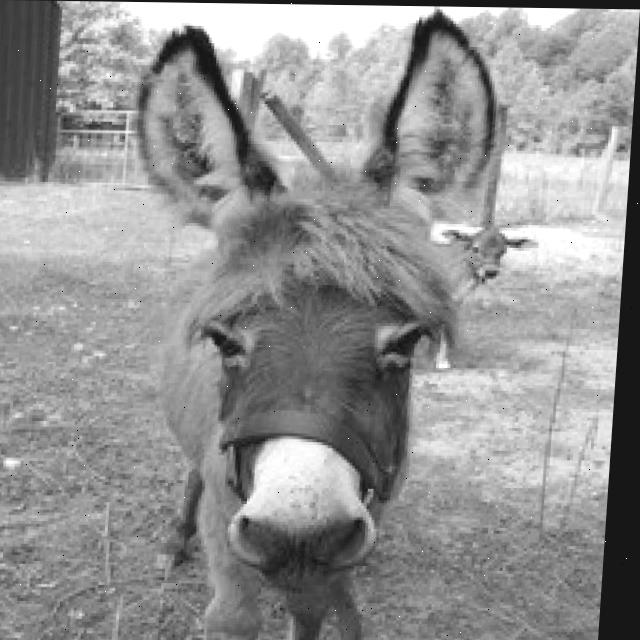Donkey: (98, 2, 529, 640)
